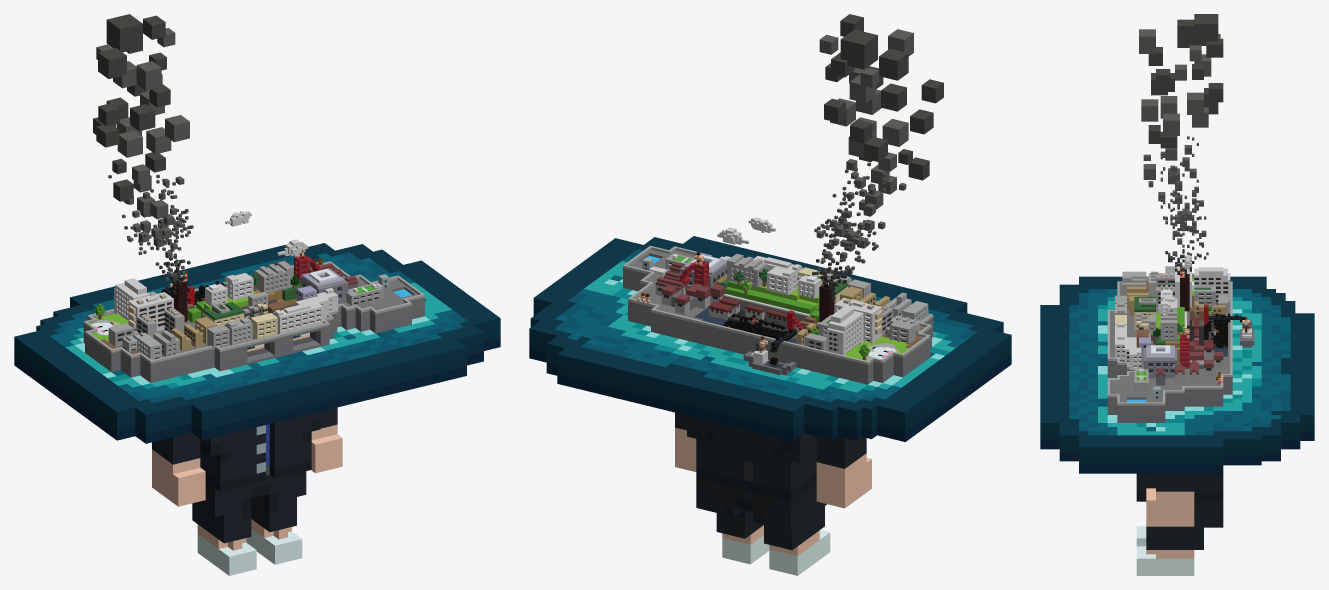
File: g軍艦島.glb
The picture shows the model from 3 angles, left to right: view 1: azimuth 30°, elevation 25°; view 2: azimuth 150°, elevation 25°; view 3: azimuth 270°, elevation 25°; orthographic projection. The views are drawn at different scales.
Parts seen in each view (by area): view 1: 軍艦島-3, 軍艦島-4, 軍艦島-2; view 2: 軍艦島-3, 軍艦島-4, 軍艦島-2; view 3: 軍艦島-3, 軍艦島-2, 軍艦島-4.
Boxes of the visible parts, left/top/right/bottom form: 軍艦島-3: left=14, top=243, right=500, bottom=443; 軍艦島-4: left=91, top=322, right=342, bottom=575; 軍艦島-2: left=93, top=14, right=193, bottom=283; 軍艦島-3: left=529, top=236, right=1011, bottom=441; 軍艦島-4: left=675, top=346, right=896, bottom=575; 軍艦島-2: left=812, top=14, right=943, bottom=288; 軍艦島-3: left=1040, top=265, right=1314, bottom=473; 軍艦島-2: left=1139, top=14, right=1223, bottom=274; 軍艦島-4: left=1136, top=281, right=1223, bottom=575.
Size of the model in its own units: 16.8 by 22.9 by 11.4.
Materials: 5 (5 with a texture image).
